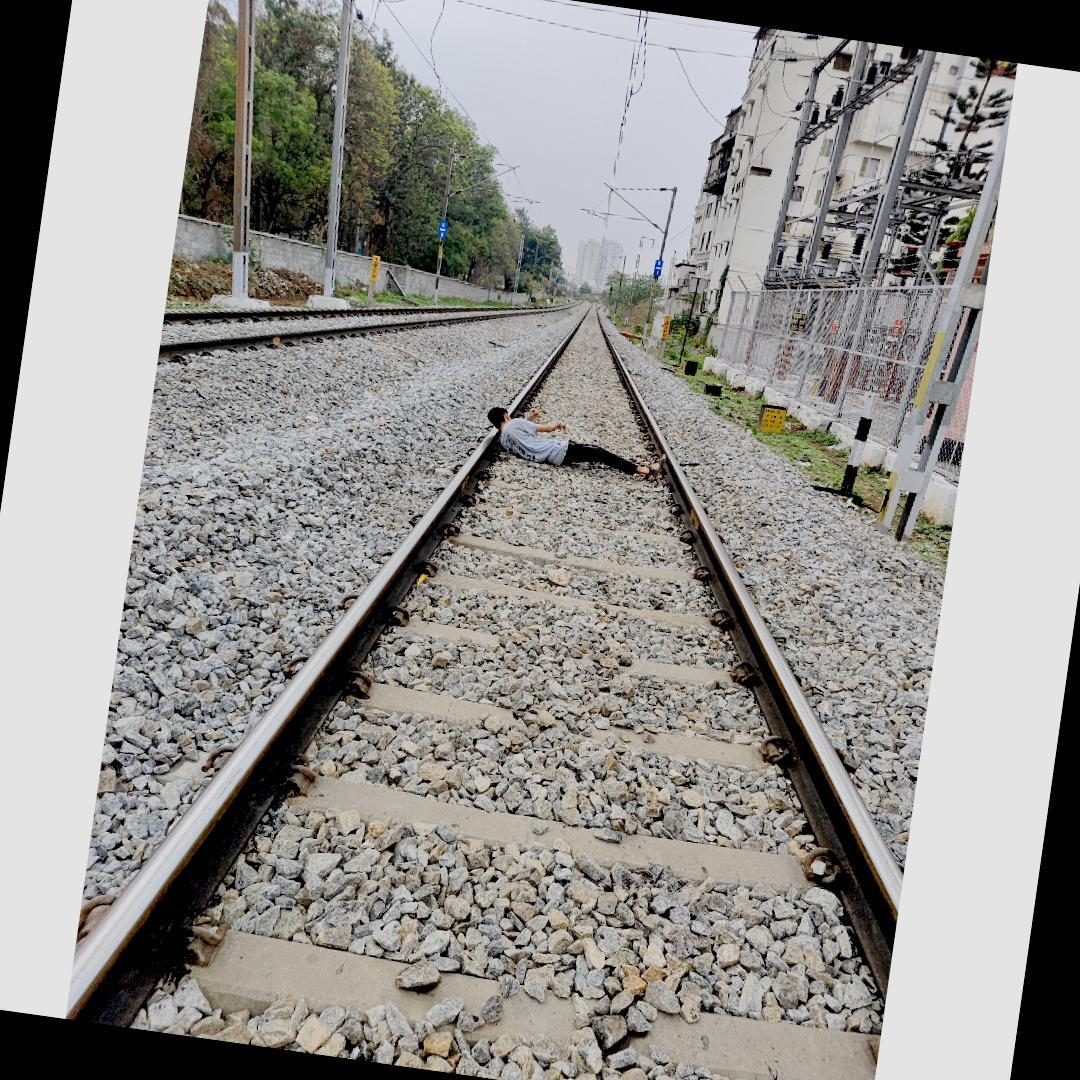sleeping: (477, 398, 664, 483)
track: (64, 299, 910, 1080)
